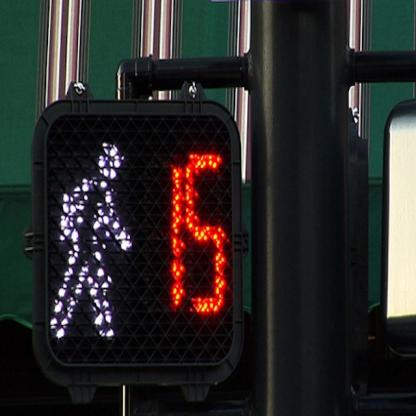Walk: (43, 113, 150, 371)
